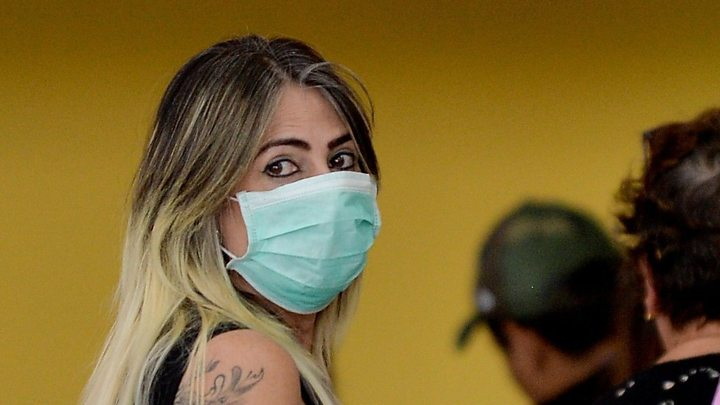surgical: (219, 166, 392, 315)
